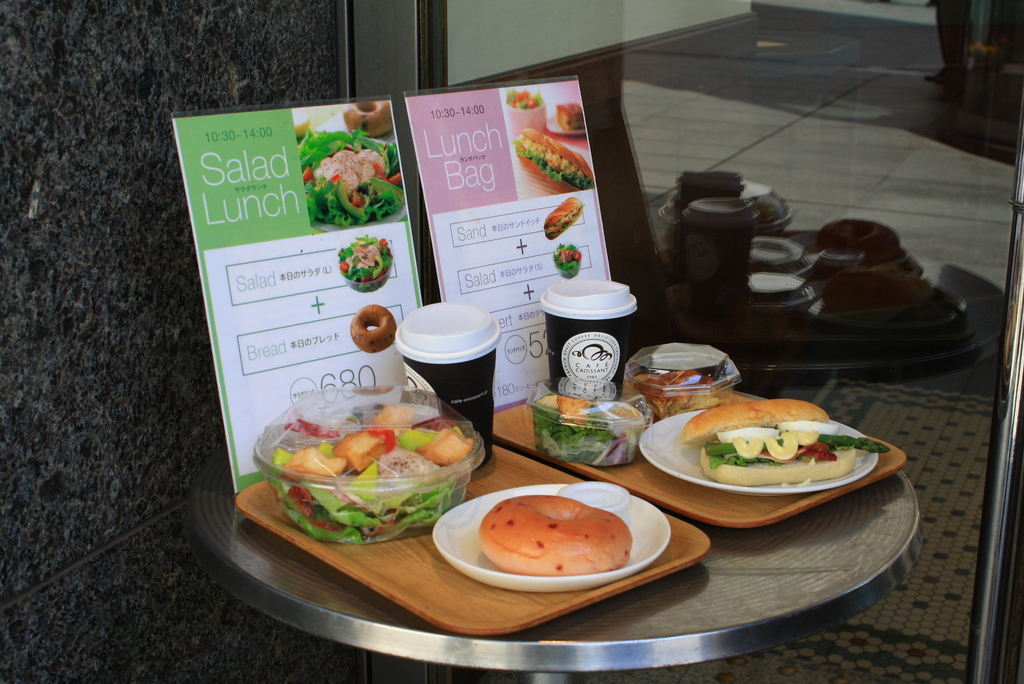sandwich: (664, 394, 888, 491)
